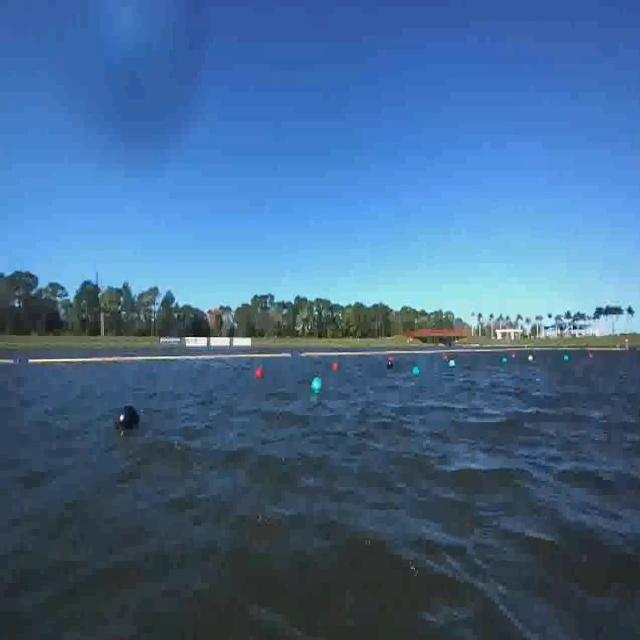black-buoy: (109, 389, 151, 450)
green-buoy: (312, 377, 323, 394)
red-buoy: (255, 367, 262, 378)
